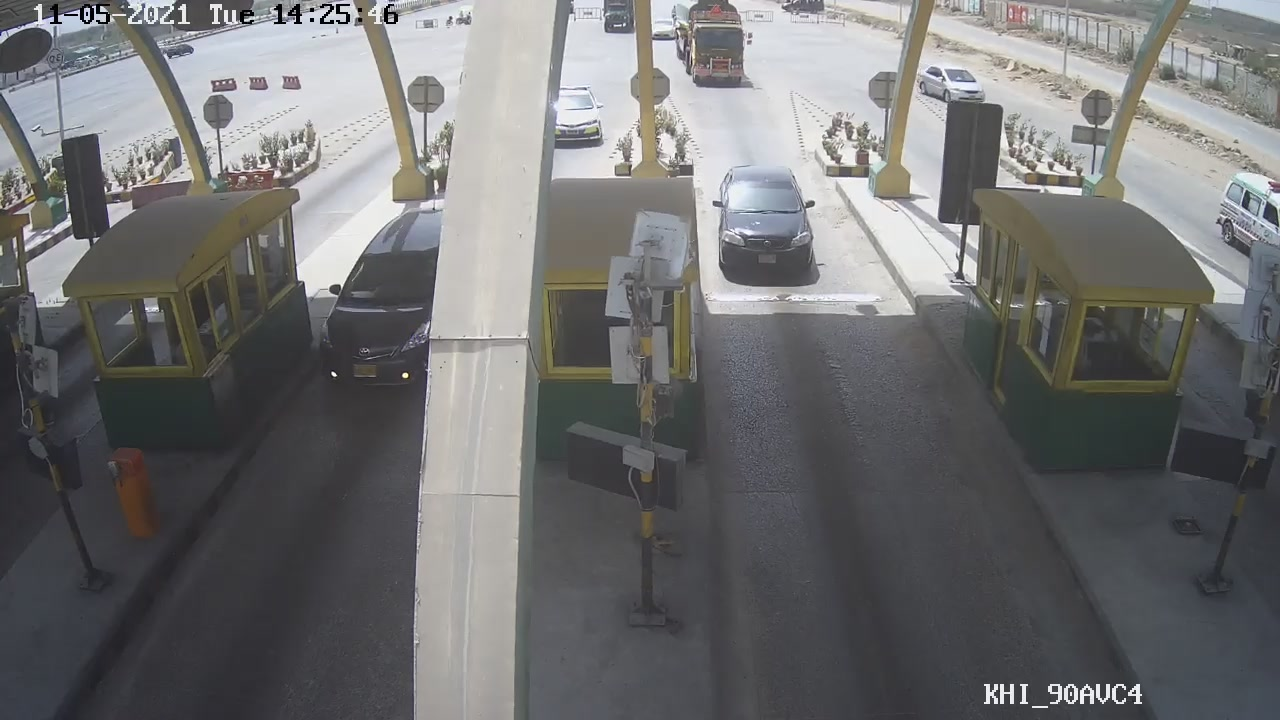F1: (709, 156, 822, 286)
